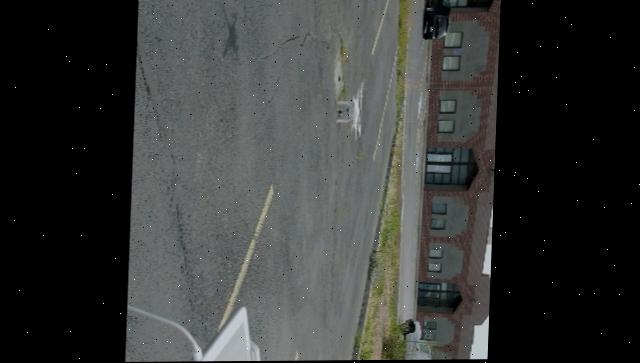drone: (336, 82, 368, 137)
